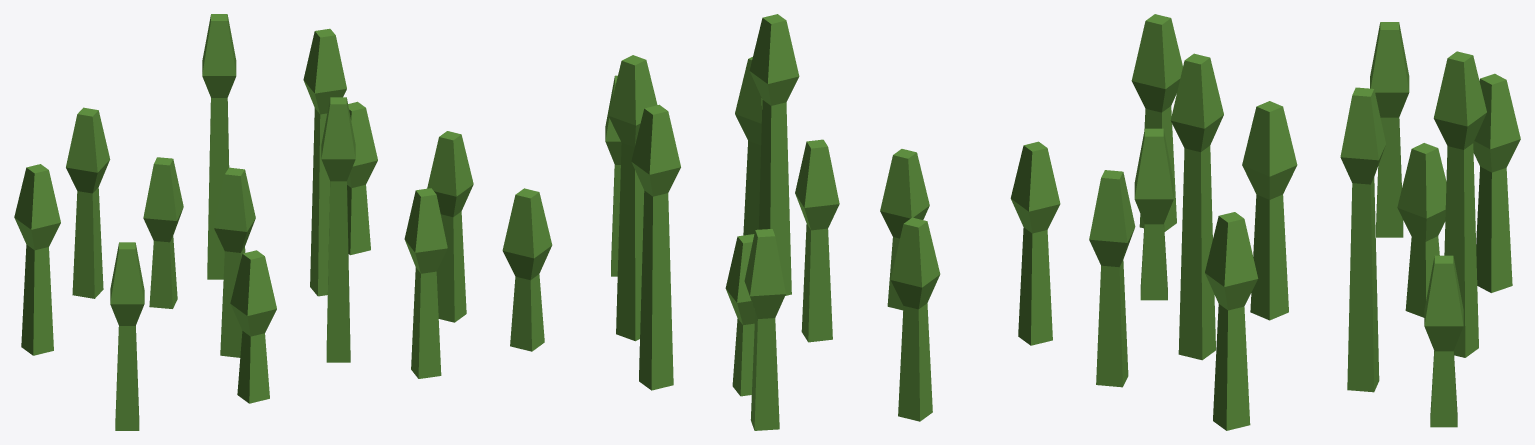
The model's file is crops_wheatStageA.glb.
3 views of the same model, side by side, from view 1: azimuth 30°, elevation 25°; view 2: azimuth 150°, elevation 25°; view 3: azimuth 270°, elevation 25° (orthographic). The views are drawn at different scales.
Parts seen in each view (by area): view 1: crops_wheatStageA; view 2: crops_wheatStageA; view 3: crops_wheatStageA.
Part boxes in pixels (left/top/right/bottom): crops_wheatStageA: left=14, top=14, right=473, bottom=430; crops_wheatStageA: left=502, top=14, right=1060, bottom=430; crops_wheatStageA: left=1089, top=14, right=1520, bottom=430.
Size of the model in its own units: 0.7555 by 0.4689 by 0.6254.
